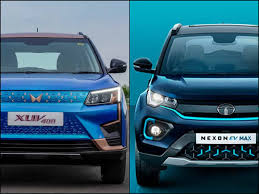XUV 400: (1, 28, 128, 187)
